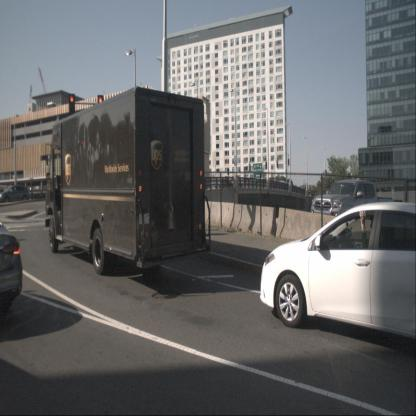barrier: (276, 207, 336, 250), (231, 203, 276, 238), (202, 200, 236, 230)
